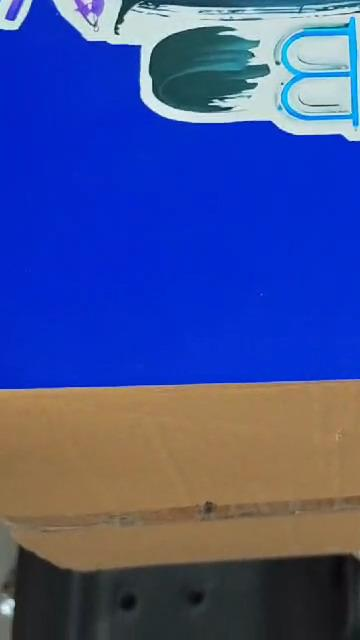B_R1: (32, 0, 360, 178)
